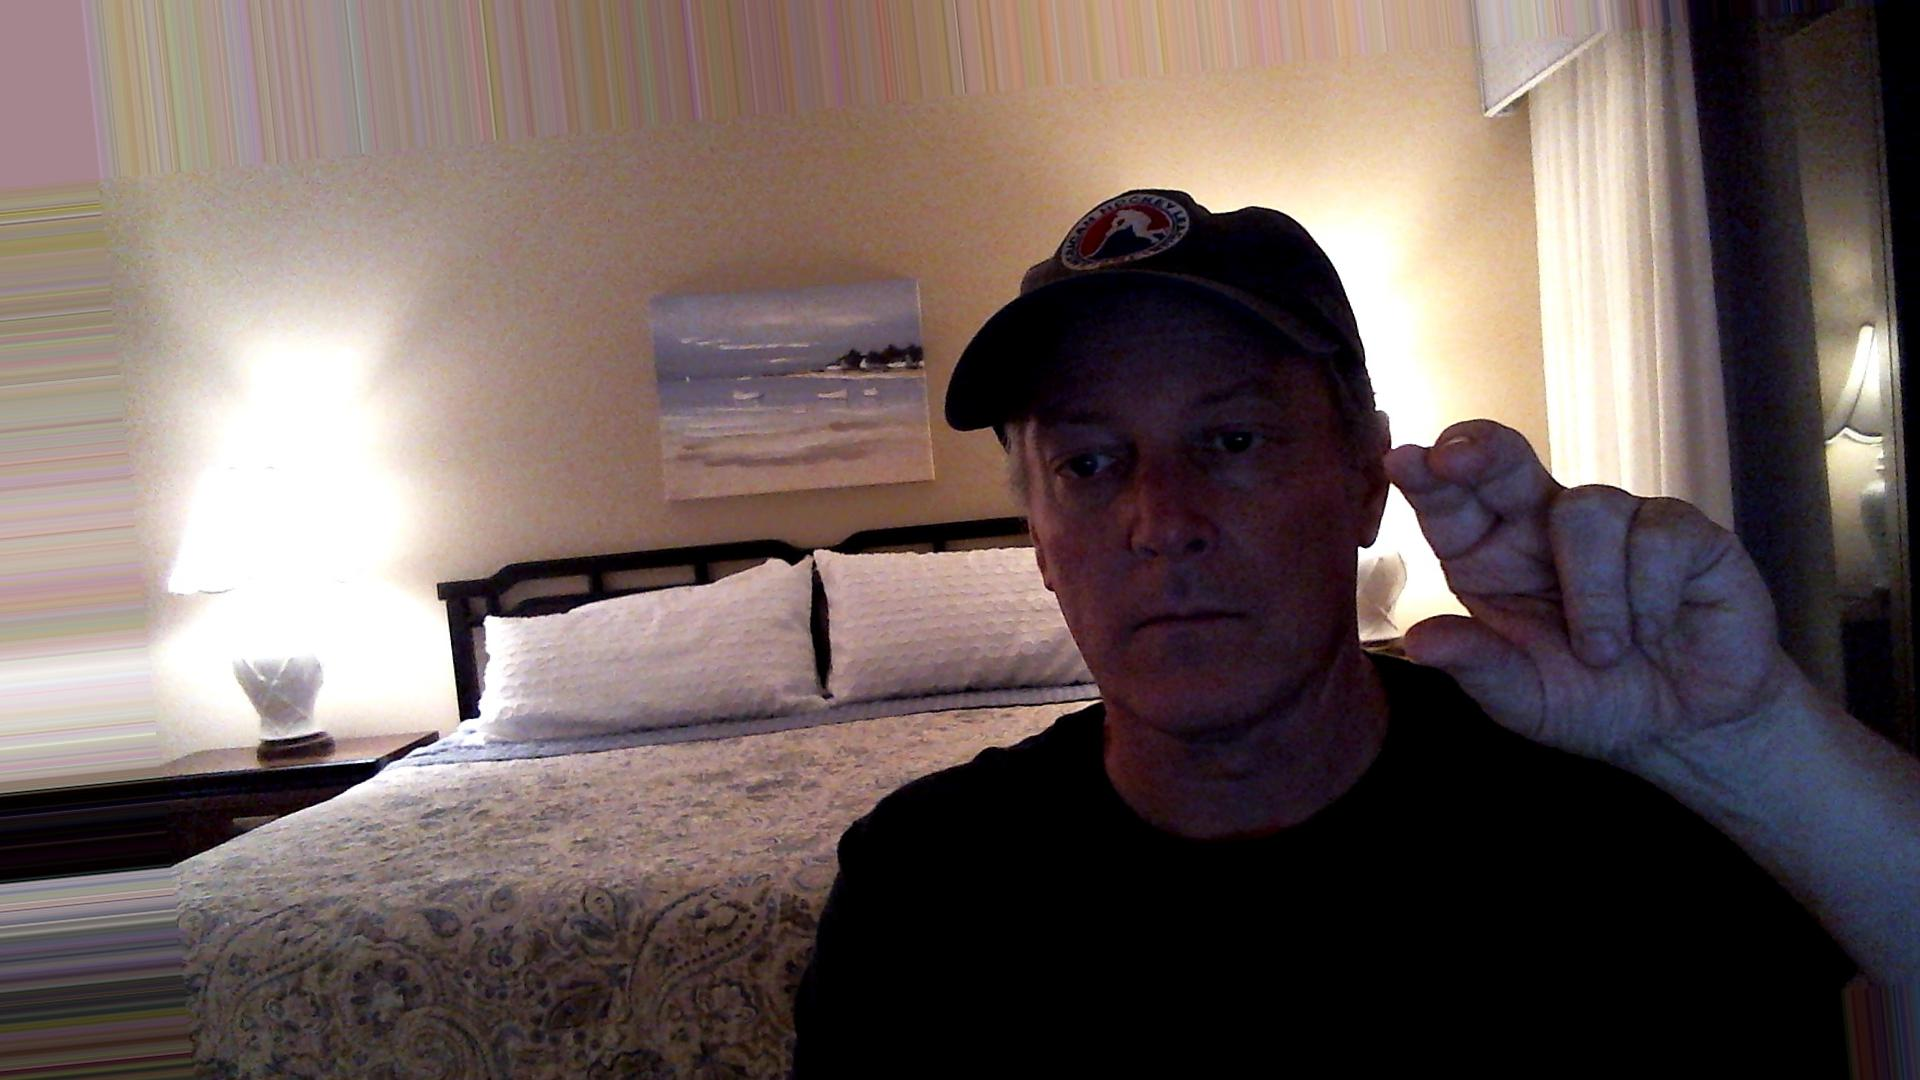No: (1357, 410, 1859, 804)
